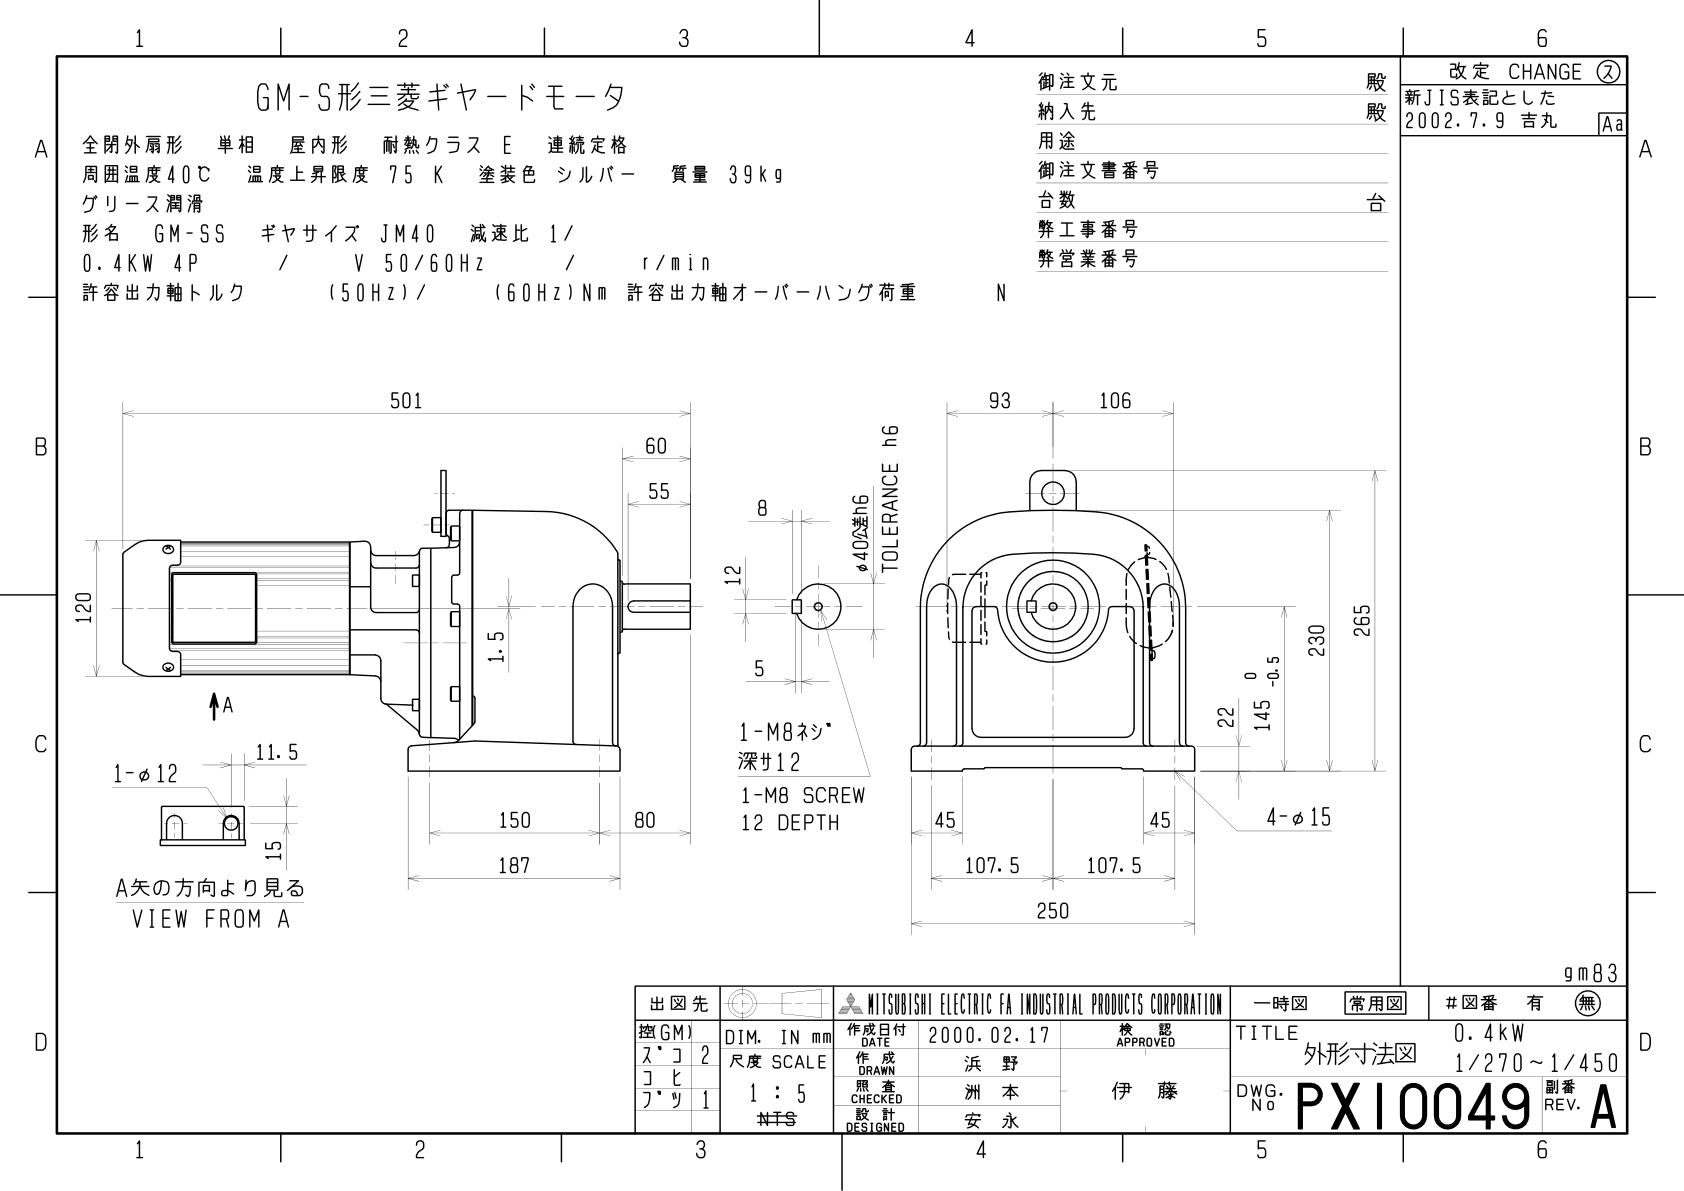GM_S_屋内＿三相_脚: (67, 349, 1386, 965)
